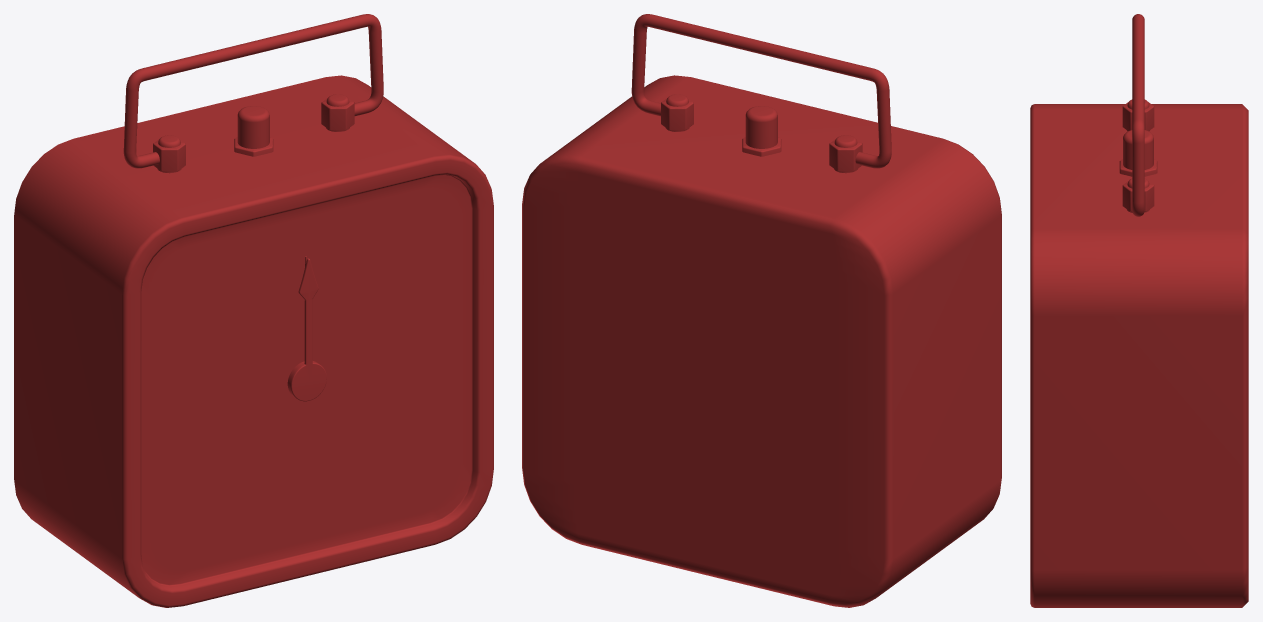
The model's file is Clock_1.fbx.
3 views of the same model, side by side, from view 1: azimuth 30°, elevation 25°; view 2: azimuth 150°, elevation 25°; view 3: azimuth 270°, elevation 25° (orthographic). The views are drawn at different scales.
Visible parts, largest first — view 1: Clock_Static, Hand_Hour; view 2: Clock_Static; view 3: Clock_Static.
Part boxes in pixels (<box>): Clock_Static: <box>14,14,493,607</box>; Hand_Hour: <box>287,258,326,401</box>; Clock_Static: <box>522,14,1001,607</box>; Clock_Static: <box>1030,14,1248,607</box>.
Bounding box in the file's own units: 8.5 × 10.81 × 4.5.
